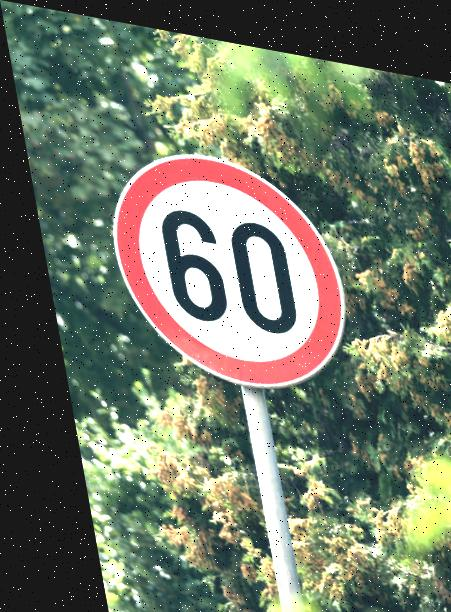Speed Limit -60-: (88, 128, 351, 396)
